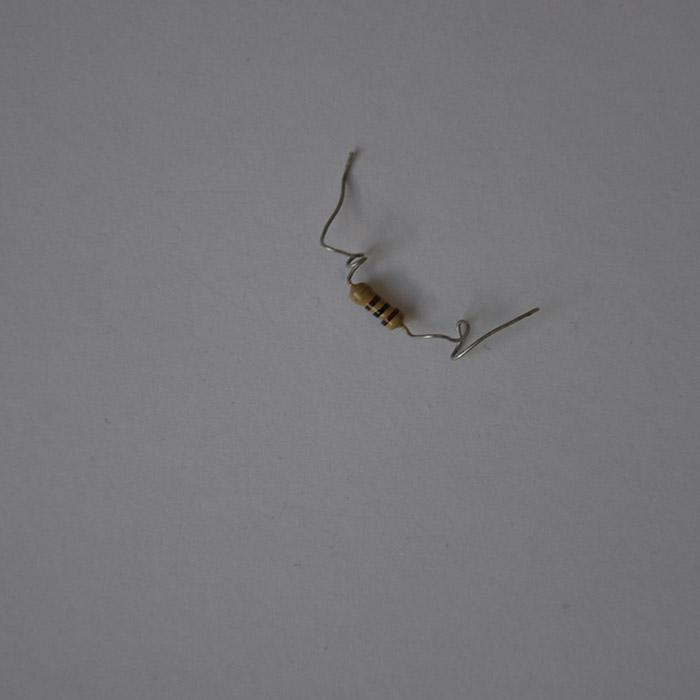resistor: (348, 280, 403, 333)
